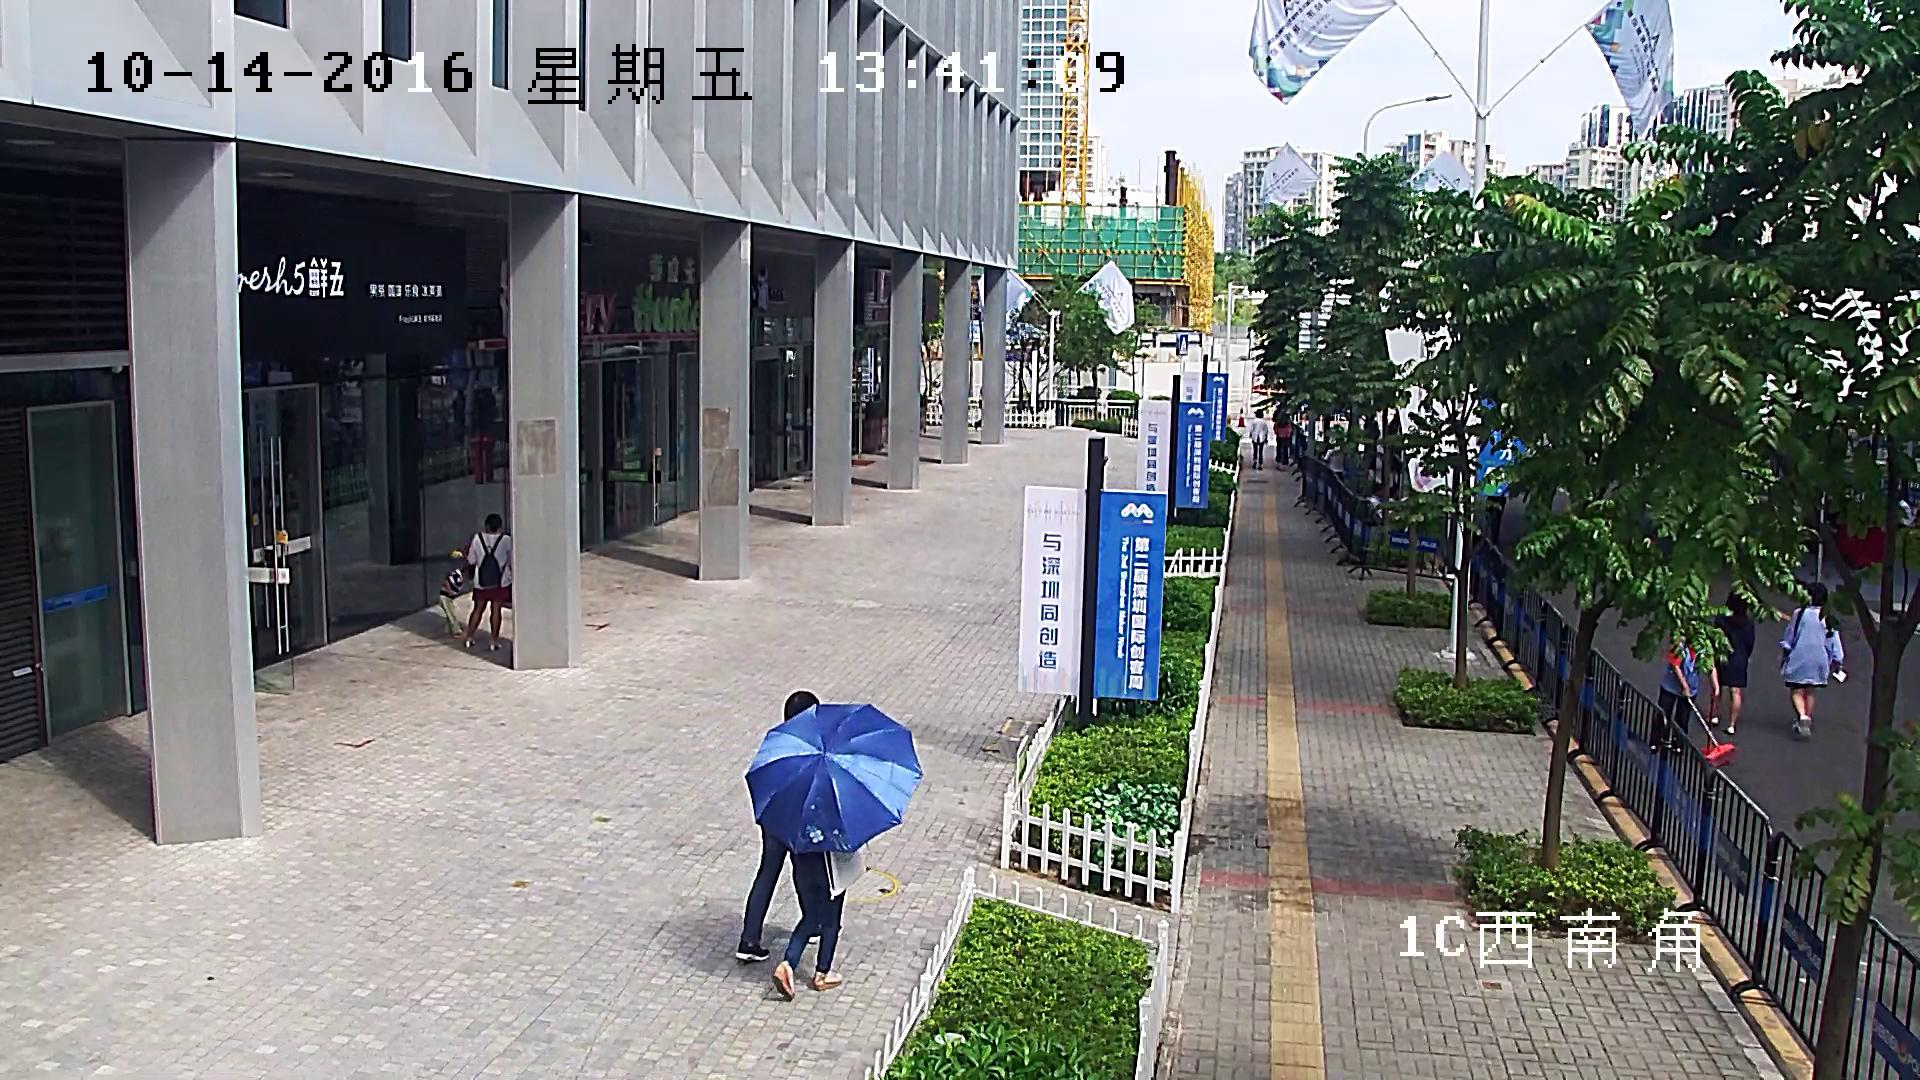person: (744, 700, 925, 1004), (734, 687, 825, 964), (769, 839, 868, 1002), (1645, 635, 1742, 770), (1777, 580, 1849, 746), (1648, 634, 1721, 756), (462, 510, 512, 654), (1714, 587, 1757, 736), (436, 562, 476, 640), (1272, 410, 1298, 472), (1246, 409, 1270, 473)
